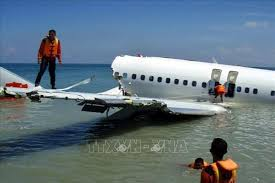maybay_dansu: (70, 42, 275, 126)
